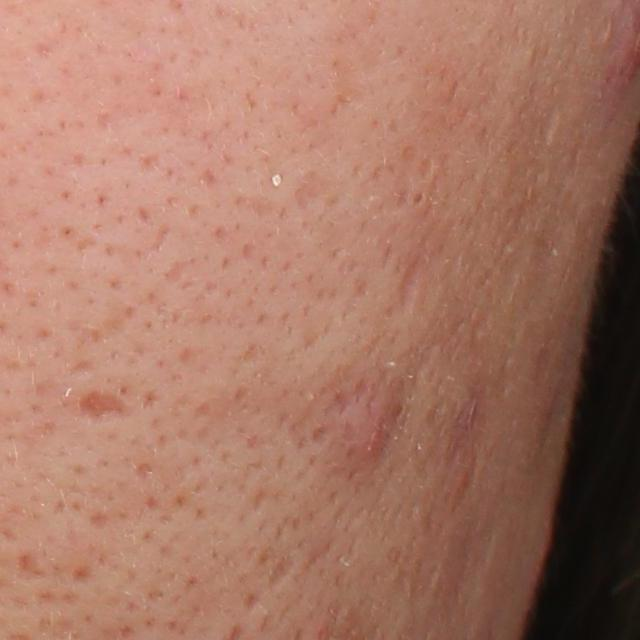atrophic_scar: (291, 171, 340, 217), (393, 255, 421, 317), (80, 391, 131, 421), (415, 154, 438, 186)
papule: (343, 377, 409, 467), (618, 12, 640, 84)
